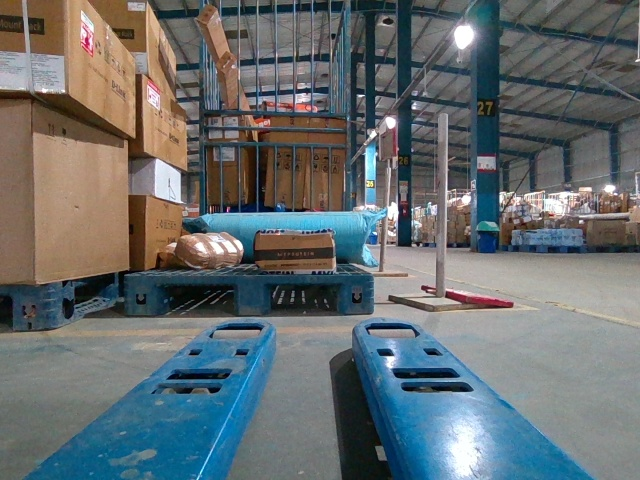block: (124, 274, 158, 319), (338, 274, 373, 312), (235, 277, 268, 316)
front: (125, 274, 373, 319)
hole pallet: (163, 283, 238, 315), (268, 285, 338, 314)
